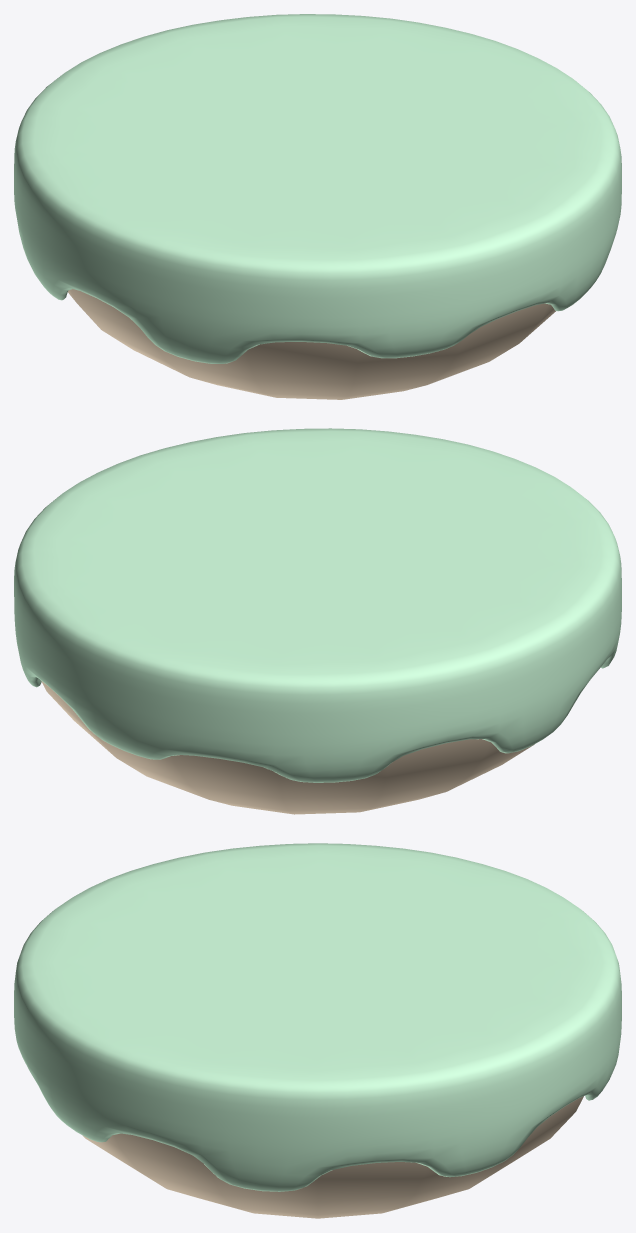
Rendered from groundmeta.fbx.
3 renders of one model, top to bottom at view 1: azimuth 30°, elevation 25°; view 2: azimuth 150°, elevation 25°; view 3: azimuth 270°, elevation 25°, orthographic.
Visible parts, largest first — view 1: Sphere.001, Sphere; view 2: Sphere.001, Sphere; view 3: Sphere.001, Sphere.
Part boxes in pixels (bbox=[...]): Sphere.001: bbox=[14, 14, 621, 363]; Sphere: bbox=[68, 289, 555, 399]; Sphere.001: bbox=[14, 428, 621, 782]; Sphere: bbox=[41, 681, 534, 814]; Sphere.001: bbox=[14, 843, 621, 1191]; Sphere: bbox=[82, 1096, 583, 1218].
Size of the model in its own units: 33.01 by 13.38 by 33.85.
